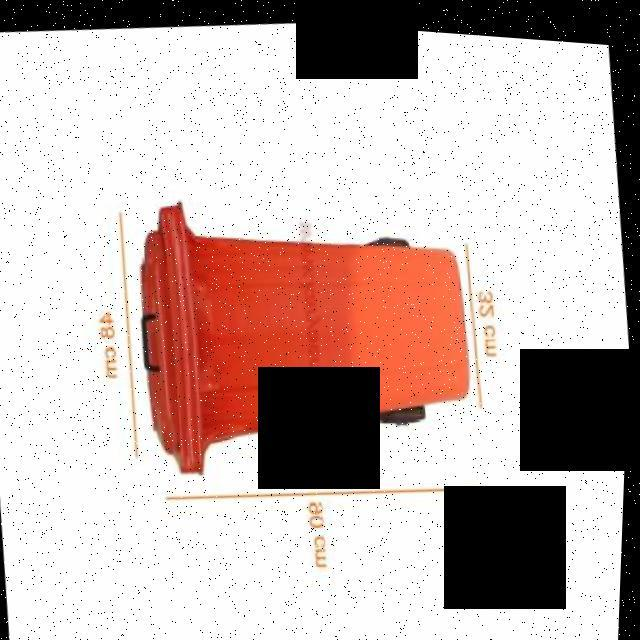bin: (118, 157, 488, 501)
